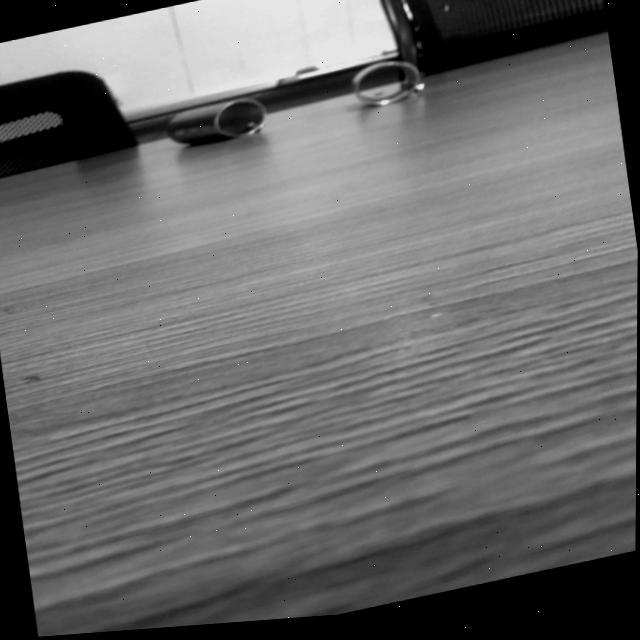Co_Lon: (346, 49, 426, 113)
Co_Nho: (163, 94, 268, 149)
